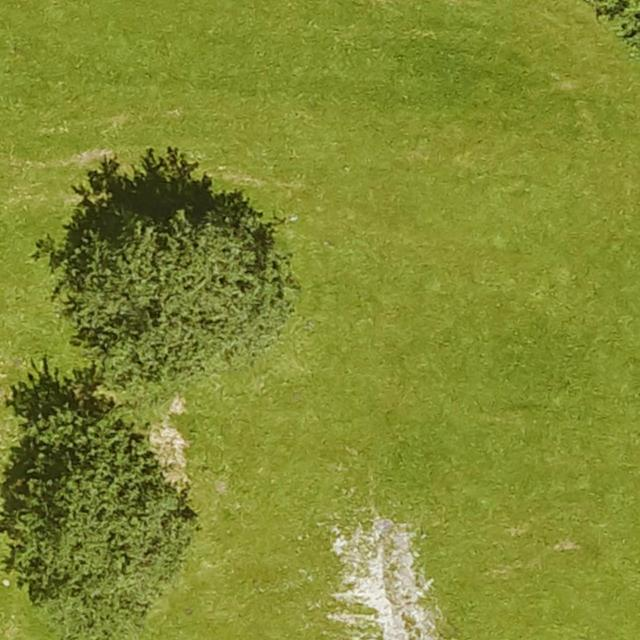tree: (66, 211, 291, 385), (10, 413, 190, 629)
